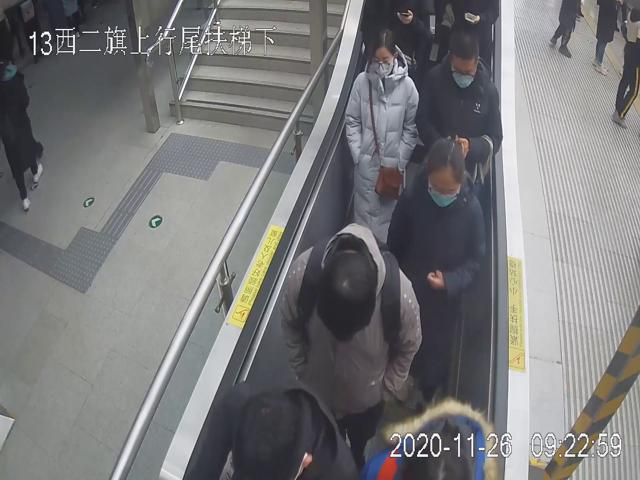person: (279, 222, 419, 458), (387, 131, 487, 405), (340, 24, 419, 254), (416, 28, 504, 194)
